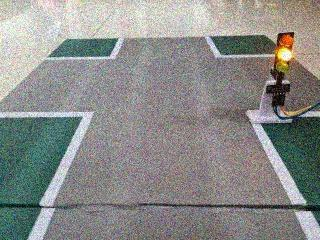yellow: (264, 25, 303, 80)
